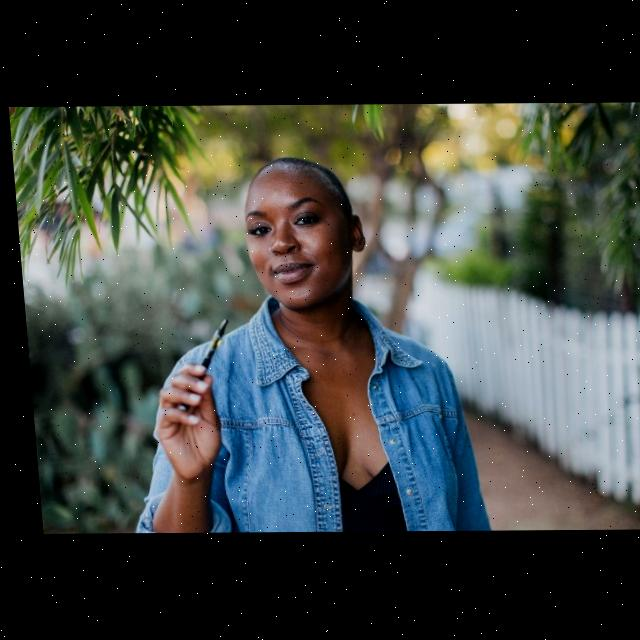vape: (192, 318, 226, 368)
